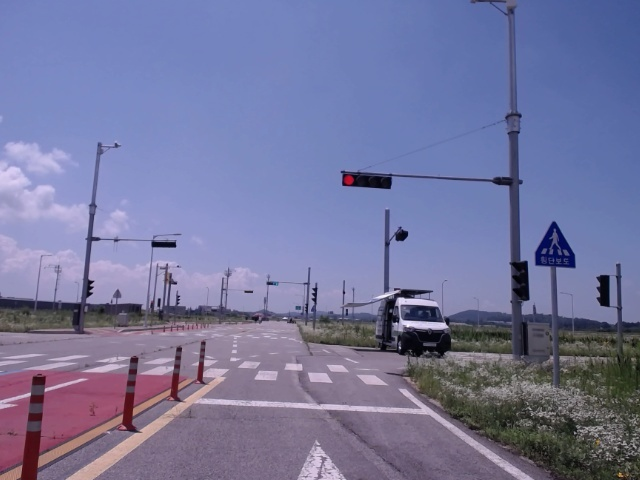red_4: (342, 174, 392, 189)
